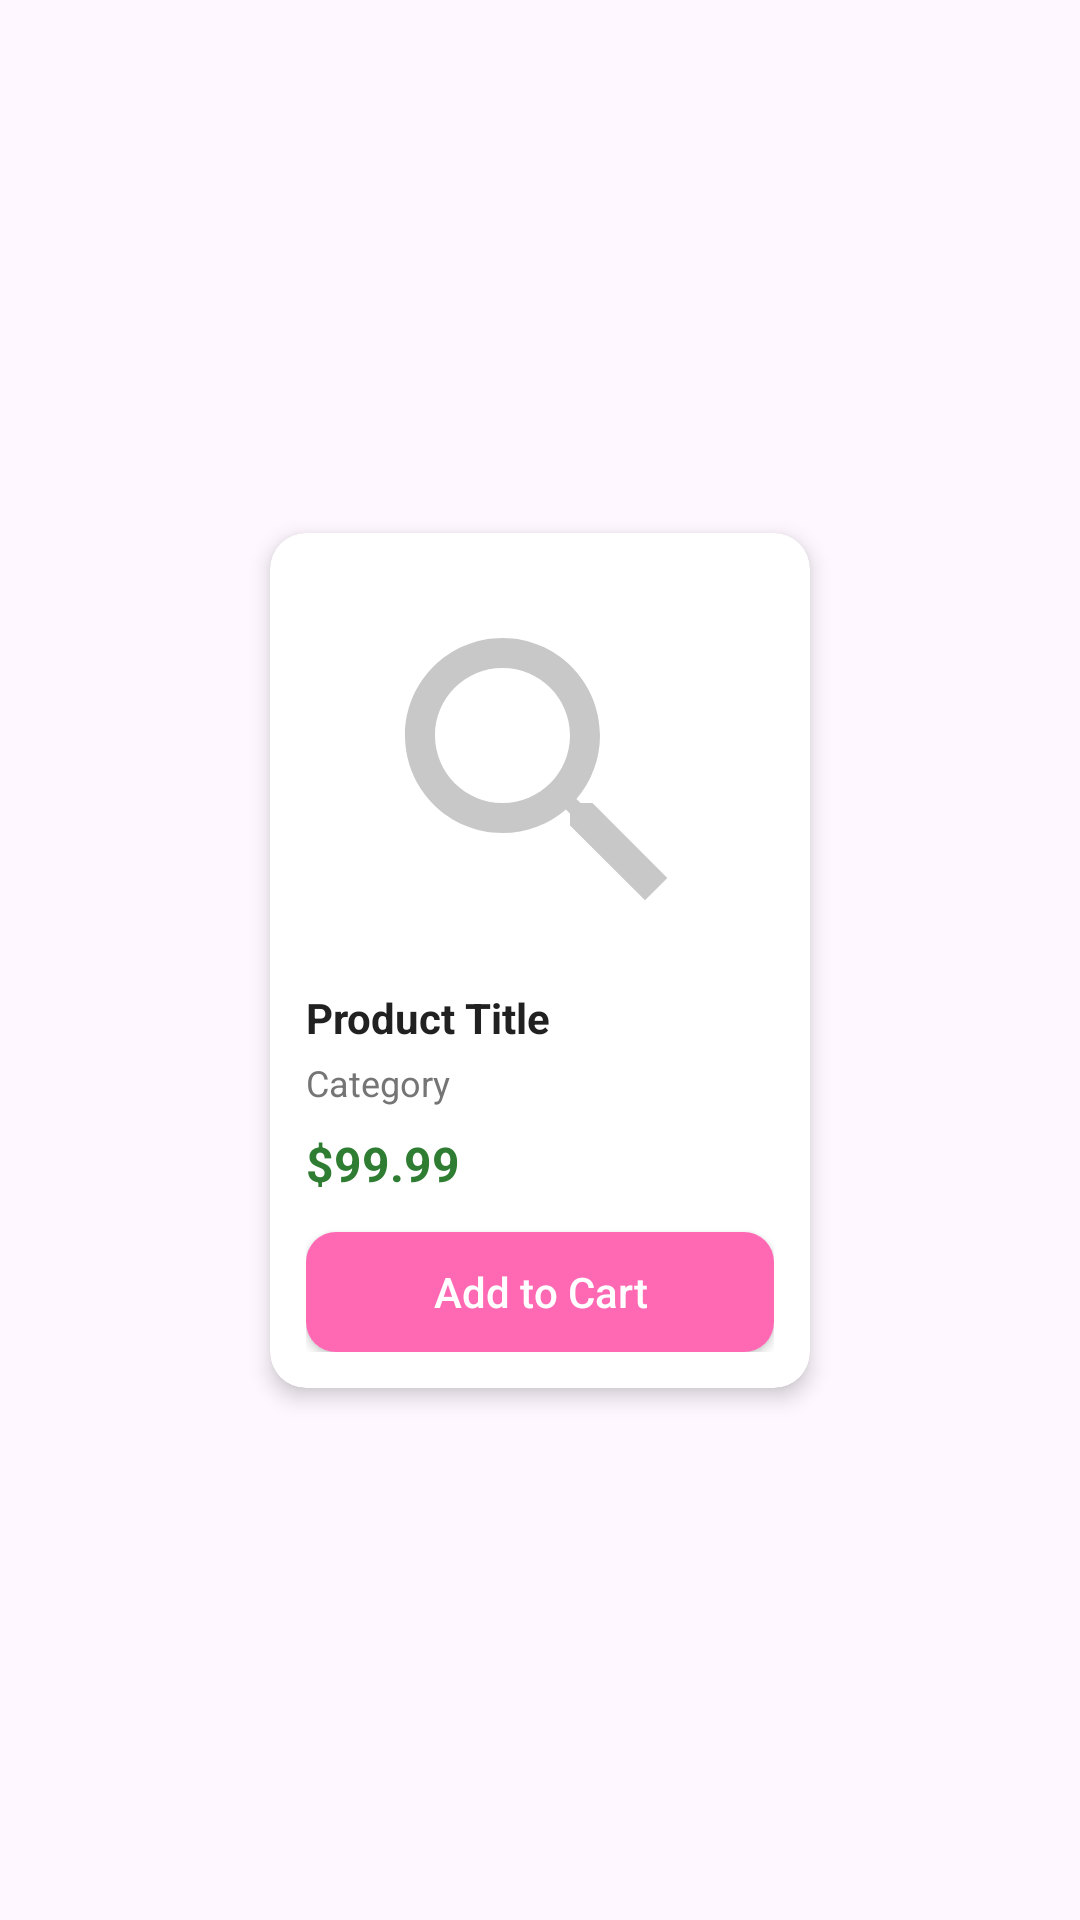

Point at icon controls on the screen. Image size 1080w x 1920h, points as point (x, y).
search: point (536, 769)
